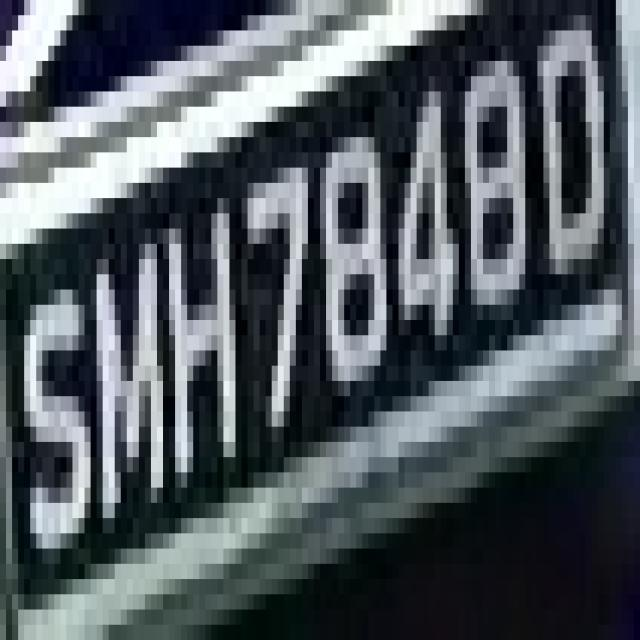4: (380, 91, 459, 412)
7: (229, 152, 320, 472)
8: (296, 91, 392, 426), (447, 61, 543, 350)
D: (537, 0, 621, 274)
H: (151, 183, 241, 503)
M: (79, 213, 175, 518)
S: (18, 259, 91, 533)
